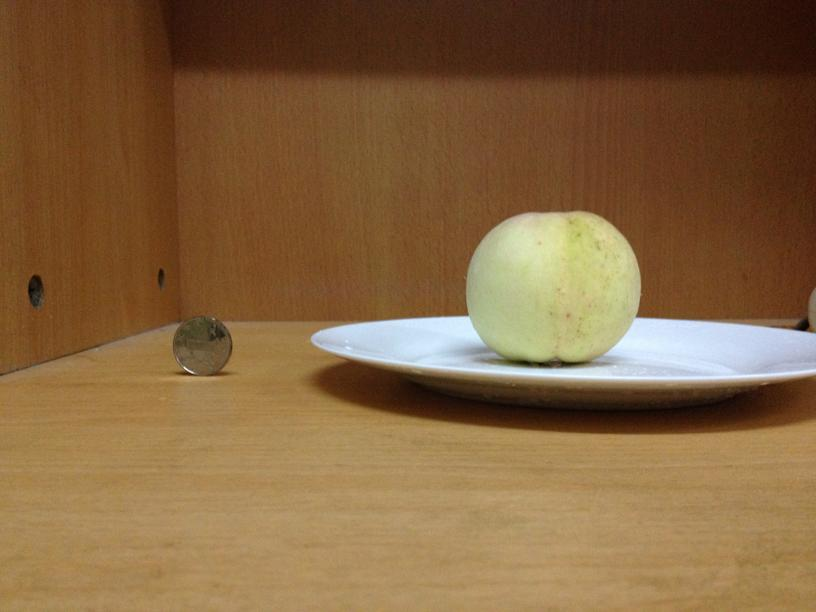coin: (171, 315, 236, 377)
peach: (464, 210, 644, 365)
